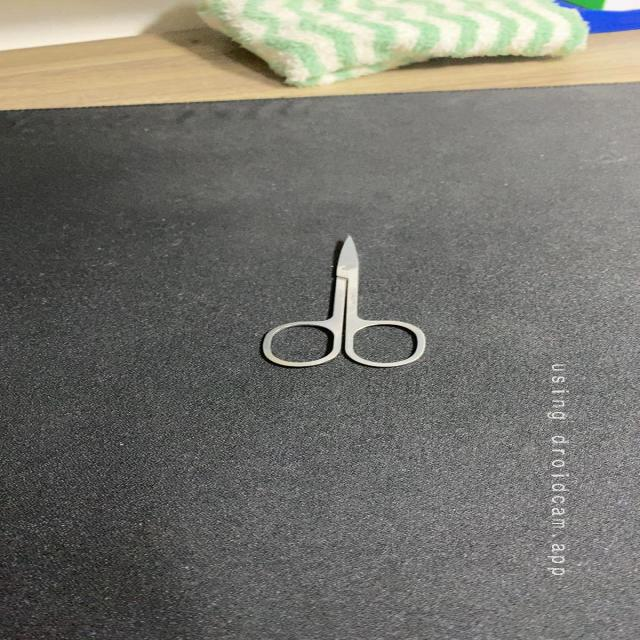scissor: (249, 226, 432, 372)
